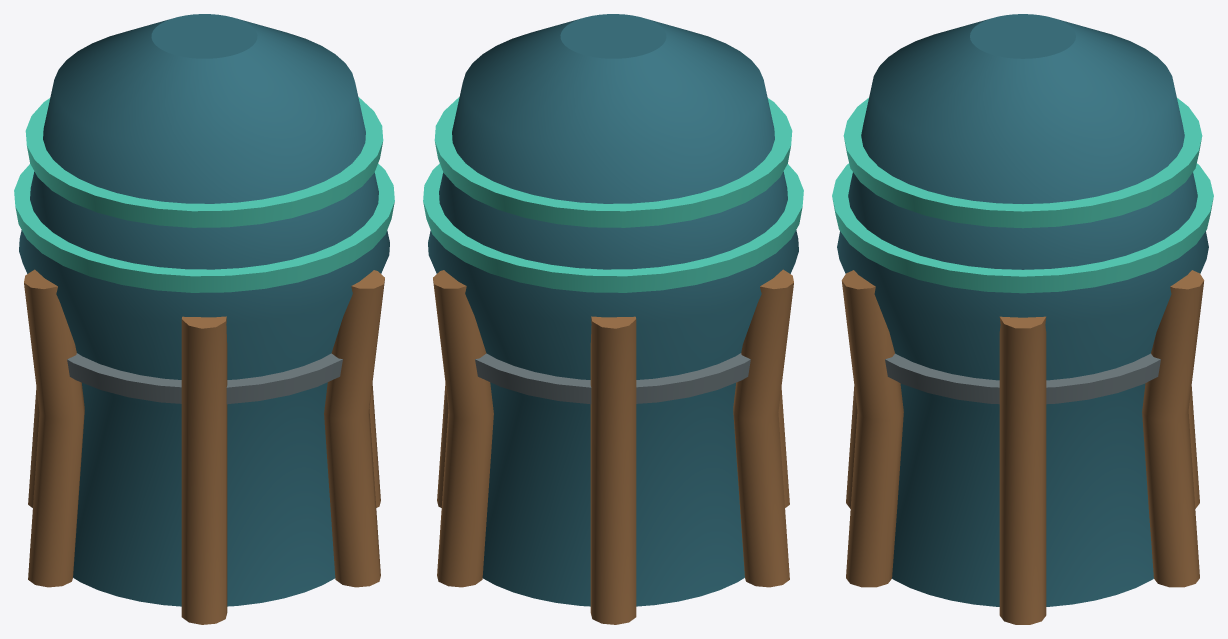
Rendered from wreck_thalassa_2.glb.
The picture shows the model from 3 angles, left to right: view 1: azimuth 30°, elevation 25°; view 2: azimuth 150°, elevation 25°; view 3: azimuth 270°, elevation 25°; orthographic projection.
Parts seen in each view (by area): view 1: wreck_thalassa_2; view 2: wreck_thalassa_2; view 3: wreck_thalassa_2.
Part boxes in pixels (x1,y1,x2,y2): wreck_thalassa_2: (14, 14, 394, 624); wreck_thalassa_2: (423, 14, 803, 624); wreck_thalassa_2: (832, 14, 1213, 624).
Bounding box in the file's own units: 2.46 × 3.35 × 2.3.
